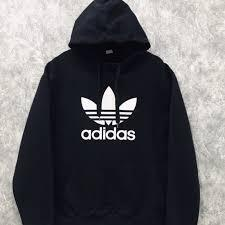sweater: (10, 1, 199, 225)
